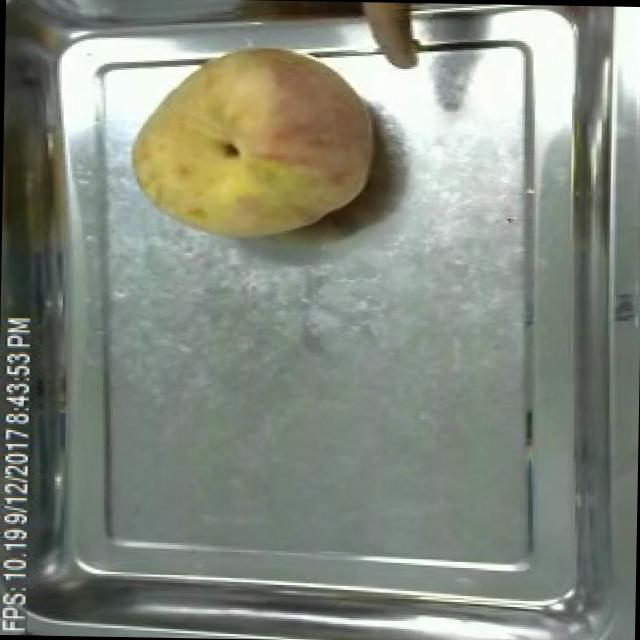Fruit: (120, 26, 387, 248)
